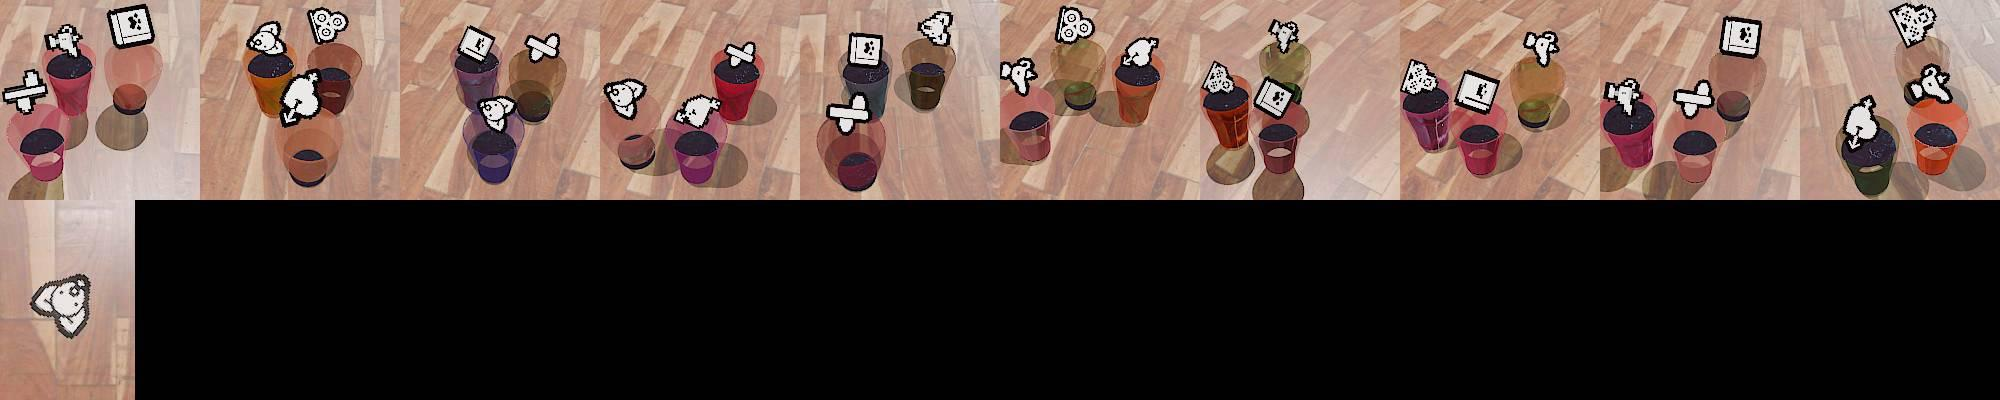icon: (28, 271, 92, 339), (277, 69, 324, 127), (1889, 1, 1937, 50), (106, 4, 156, 50), (1455, 69, 1503, 116), (1, 69, 50, 115), (1902, 64, 1954, 106), (1842, 96, 1881, 150), (1718, 15, 1763, 60), (1253, 75, 1296, 120), (824, 92, 871, 132), (603, 78, 648, 120), (1603, 76, 1647, 118), (1672, 78, 1714, 118), (675, 94, 721, 130), (1054, 5, 1094, 45), (457, 24, 496, 65), (476, 94, 517, 132), (307, 6, 348, 45), (1000, 56, 1038, 97), (1402, 59, 1440, 99), (1523, 28, 1561, 68), (246, 20, 288, 56), (45, 23, 84, 59), (917, 10, 954, 47), (847, 32, 884, 69), (1121, 36, 1159, 70), (1267, 19, 1300, 56), (1202, 60, 1233, 97), (524, 32, 561, 62), (723, 41, 756, 68)
